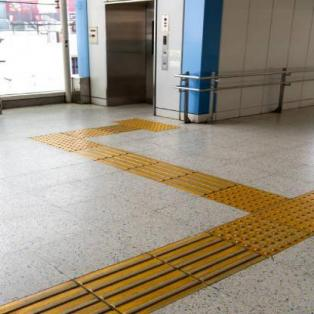Podoctatil: (1, 111, 314, 314)
